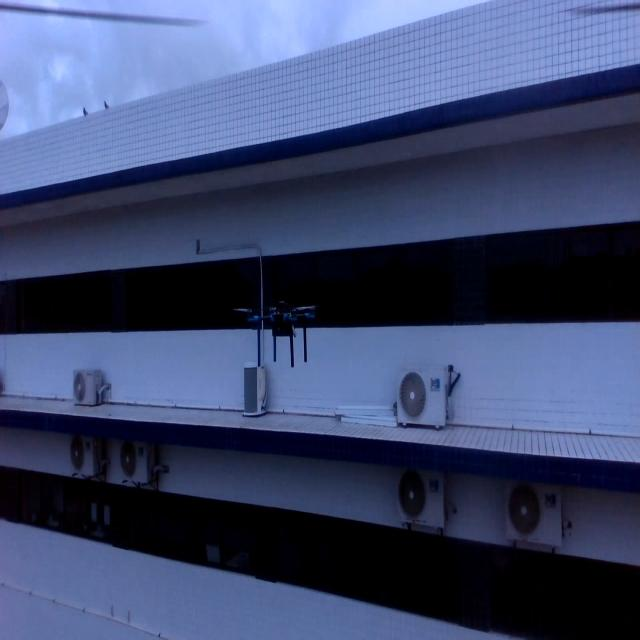-uav-: (227, 294, 330, 376)
